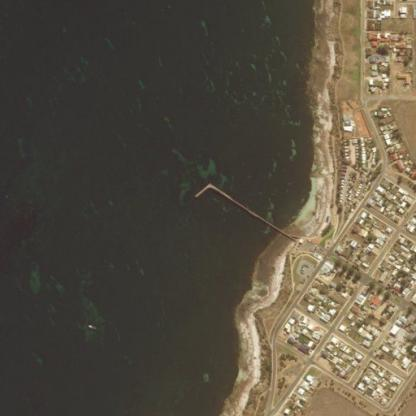ship: (87, 324, 92, 327)
